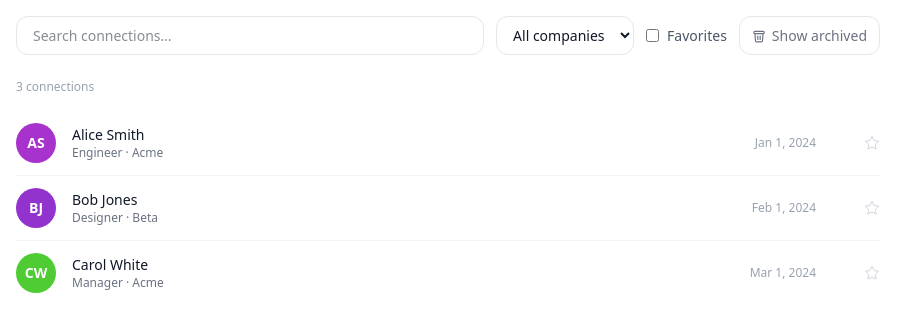
it: SearchView › filters by company dropdown
Select "Beta" in the dropdown at x=565, y=36, box [496,16,634,55]
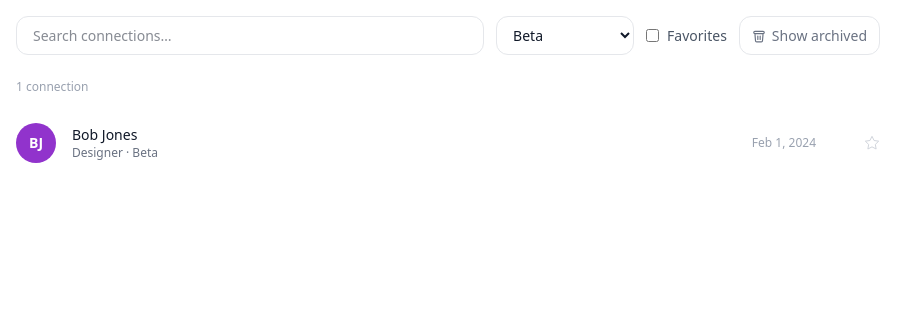
Expected: the text "Bob Jones" is shown, [72,125,137,144]
Expected: the link "Alice Smith" is gone
